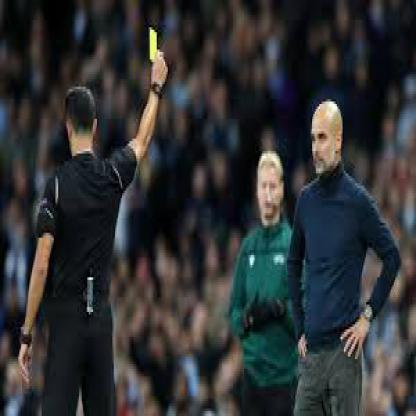foul: (120, 8, 183, 157)
